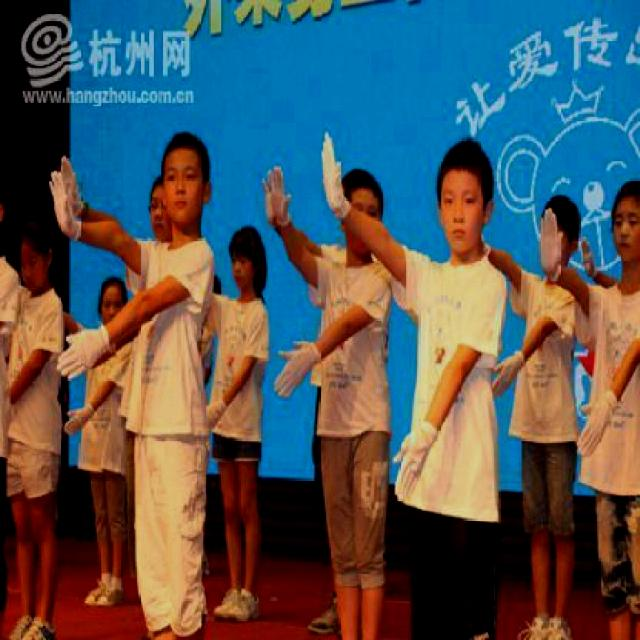face_nomask: (438, 177, 494, 251), (162, 157, 209, 226)
hand_glove: (391, 426, 429, 511), (317, 132, 351, 222), (574, 392, 611, 460), (56, 326, 101, 380), (272, 343, 310, 400), (536, 206, 564, 283), (48, 172, 75, 243), (262, 163, 290, 225), (491, 349, 523, 398), (575, 232, 597, 280), (62, 403, 89, 437)
head_nohelmet: (430, 123, 496, 188), (229, 222, 263, 256), (166, 132, 203, 158), (94, 279, 128, 303), (615, 180, 640, 212)
person: (328, 123, 517, 629), (46, 132, 219, 632), (300, 162, 397, 628), (558, 186, 640, 639), (508, 189, 583, 640), (202, 240, 272, 625), (8, 220, 70, 625)
shoes: (215, 584, 262, 625), (79, 566, 123, 608)
